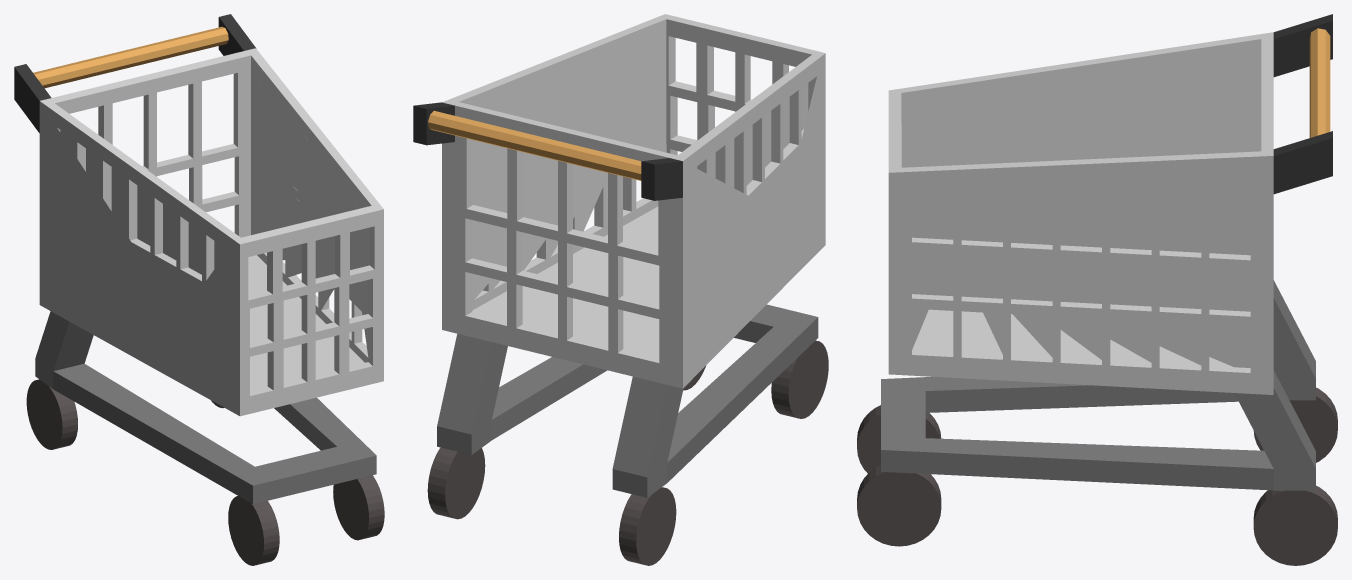
Rendered from Trolley.fbx.
The picture shows the model from 3 angles, left to right: view 1: azimuth 30°, elevation 25°; view 2: azimuth 150°, elevation 25°; view 3: azimuth 270°, elevation 25°; orthographic projection. The views are drawn at different scales.
Visible parts, largest first — view 1: Trolley, WheelMount, CageBack, Handle, FrontRightWheel, BackRightWheel, FrontLeftWheel, HandleAttachment; view 2: Trolley, WheelMount, CageBack, Handle, BackRightWheel, BackLeftWheel, FrontRightWheel, HandleAttachment; view 3: Trolley, WheelMount, BackLeftWheel, FrontLeftWheel, HandleAttachment, Handle, BackRightWheel, FrontRightWheel, CageBack.
Part boxes in pixels (bbox=[...]): Trolley: bbox=[39, 48, 383, 416]; WheelMount: bbox=[35, 311, 376, 504]; CageBack: bbox=[50, 50, 249, 237]; Handle: bbox=[33, 26, 228, 88]; FrontRightWheel: bbox=[228, 496, 279, 565]; BackRightWheel: bbox=[26, 379, 77, 449]; FrontLeftWheel: bbox=[333, 475, 384, 540]; HandleAttachment: bbox=[14, 14, 256, 132]; Trolley: bbox=[442, 14, 825, 388]; WheelMount: bbox=[437, 304, 818, 497]; CageBack: bbox=[453, 102, 675, 375]; Handle: bbox=[428, 111, 641, 180]; BackRightWheel: bbox=[619, 487, 676, 565]; BackLeftWheel: bbox=[427, 447, 485, 519]; FrontRightWheel: bbox=[771, 340, 828, 418]; HandleAttachment: bbox=[413, 102, 682, 200]; Trolley: bbox=[888, 32, 1273, 394]; WheelMount: bbox=[881, 280, 1315, 490]; BackLeftWheel: bbox=[1253, 485, 1337, 565]; FrontLeftWheel: bbox=[857, 465, 941, 546]; HandleAttachment: bbox=[1273, 14, 1332, 194]; Handle: bbox=[1309, 28, 1330, 137]; BackRightWheel: bbox=[1253, 387, 1337, 462]; FrontRightWheel: bbox=[857, 405, 941, 473]; CageBack: bbox=[1261, 38, 1273, 150].
Size of the model in its own units: 69.5 by 114 by 114.
